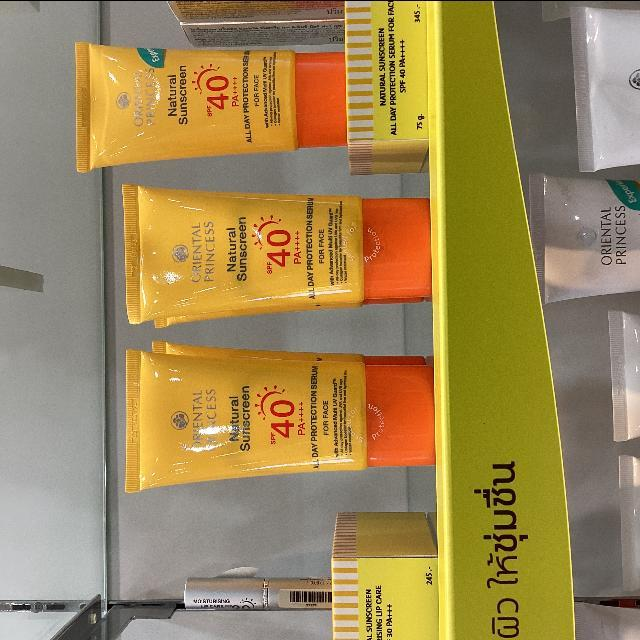Squeeze Tube: (50, 0, 500, 551), (110, 347, 443, 502), (127, 177, 437, 329), (67, 40, 349, 185)
